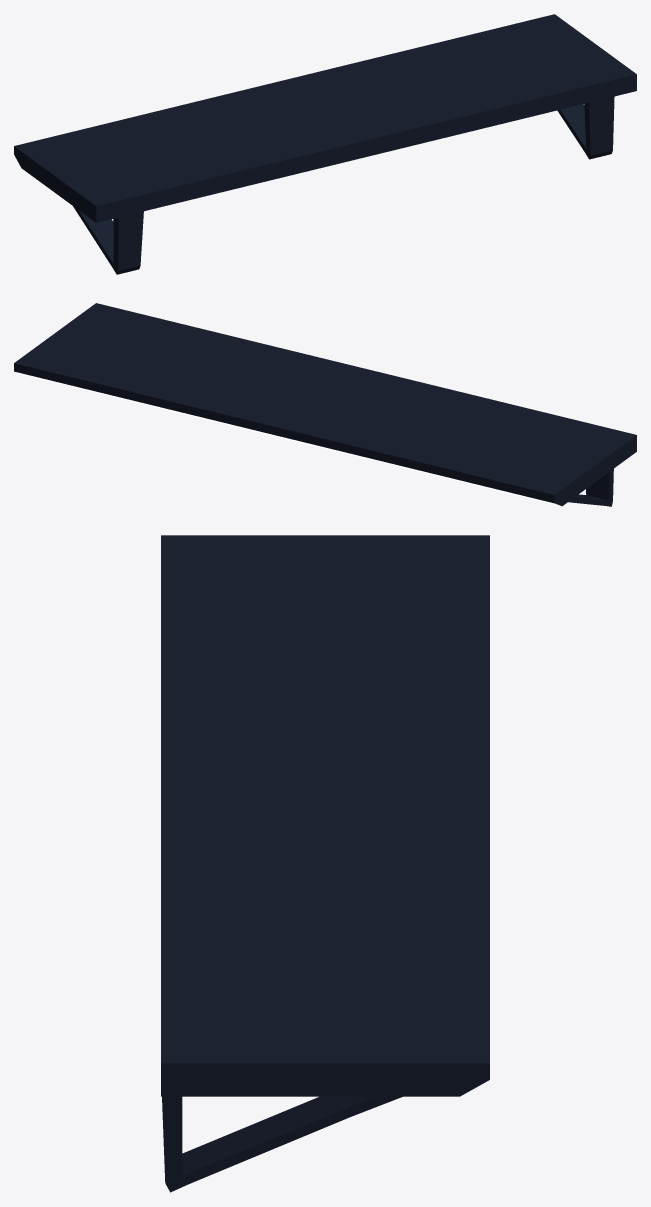
The model's file is prateleirasubida.fbx.
3 renders of one model, top to bottom at view 1: azimuth 30°, elevation 25°; view 2: azimuth 150°, elevation 25°; view 3: azimuth 270°, elevation 25°, orthographic. The views are drawn at different scales.
Visible parts, largest first — view 1: PrateleiraB.001; view 2: PrateleiraB.001; view 3: PrateleiraB.001.
Boxes of the visible parts, x1,y1,x2,y2 form: PrateleiraB.001: [14, 14, 636, 274]; PrateleiraB.001: [14, 303, 636, 506]; PrateleiraB.001: [161, 535, 489, 1192].
Size of the model in its own units: 108 by 14.53 by 28.53.
